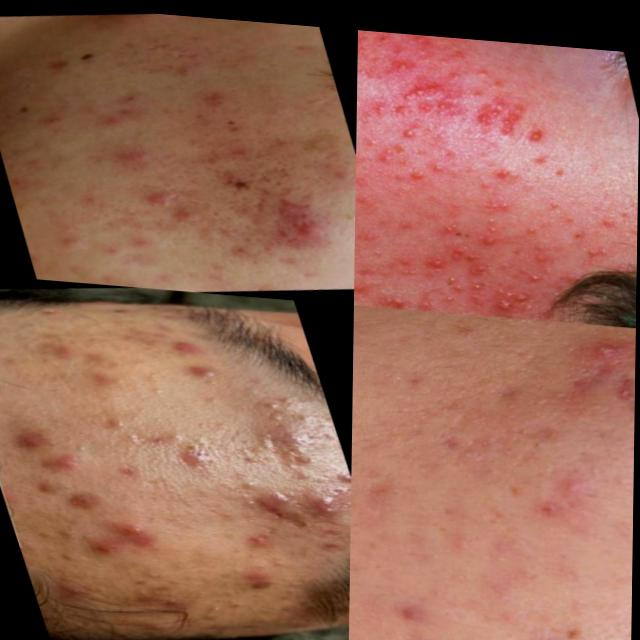8: (569, 312, 634, 362), (157, 333, 224, 365), (108, 508, 159, 548), (104, 143, 158, 175), (286, 207, 328, 243), (131, 181, 181, 210), (471, 50, 508, 88), (41, 453, 95, 476), (43, 228, 89, 255), (168, 362, 228, 382), (379, 49, 419, 79), (370, 137, 407, 168), (98, 110, 133, 133), (489, 153, 516, 177)
9: (482, 268, 532, 305), (191, 83, 238, 110), (474, 202, 507, 231), (580, 229, 615, 254), (524, 258, 553, 282), (377, 281, 409, 301), (436, 213, 465, 232), (497, 105, 519, 130), (521, 118, 555, 134), (406, 161, 430, 183), (420, 245, 449, 263), (396, 117, 422, 137), (439, 283, 459, 302), (439, 262, 459, 279)
blackheads: (299, 475, 353, 520), (243, 478, 299, 520), (601, 361, 636, 409), (415, 90, 474, 118), (215, 159, 255, 193), (244, 185, 282, 217), (396, 73, 445, 97)
dark spot: (280, 445, 323, 463)
